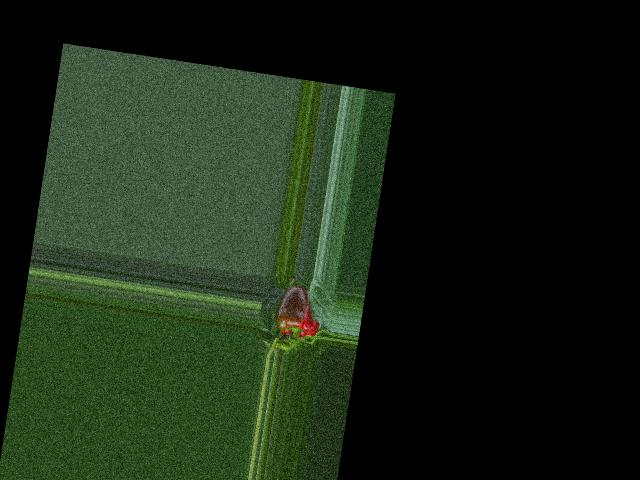bell_pepper: (267, 279, 327, 347)
